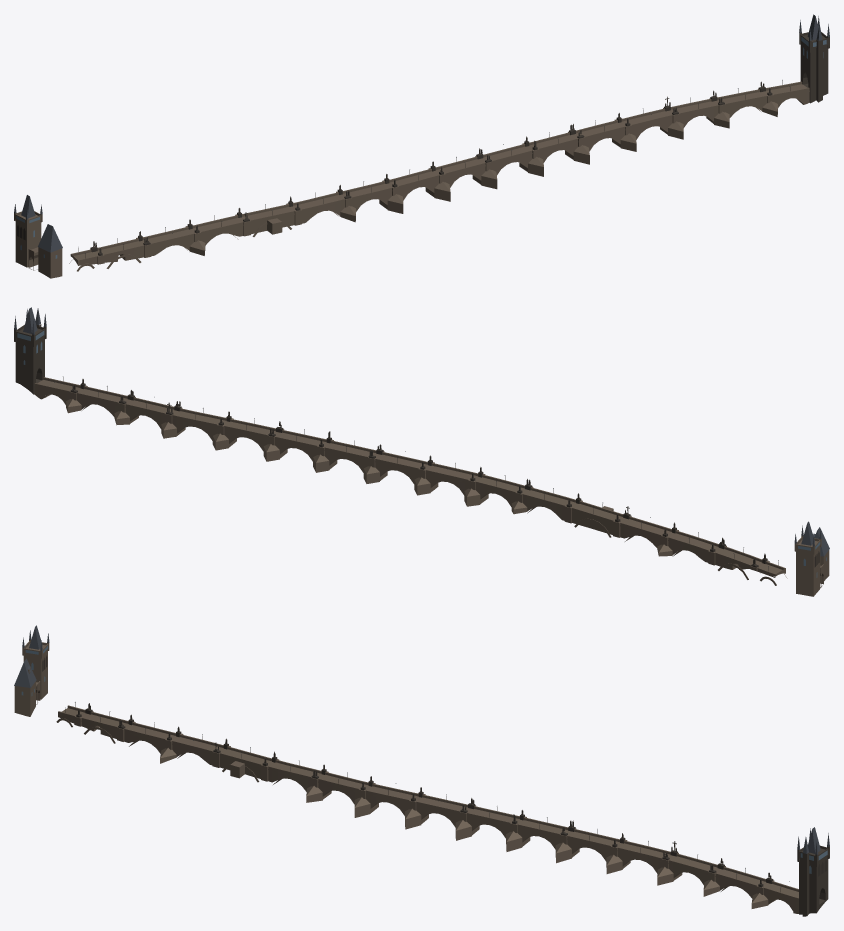
The model's file is prague-charles-bridge.glb.
3 views of the same model, one above another, from view 1: azimuth 30°, elevation 25°; view 2: azimuth 150°, elevation 25°; view 3: azimuth 330°, elevation 25° (orthographic). The views are drawn at different scales.
Visible parts, largest first — view 1: Charles Bridge; view 2: Charles Bridge; view 3: Charles Bridge.
Boxes of the visible parts, box(x1,y1,x2,y2) form: Charles Bridge: box(14, 14, 829, 278); Charles Bridge: box(14, 307, 829, 596); Charles Bridge: box(14, 625, 829, 916).
Size of the model in its own units: 511 by 51.67 by 44.56.
